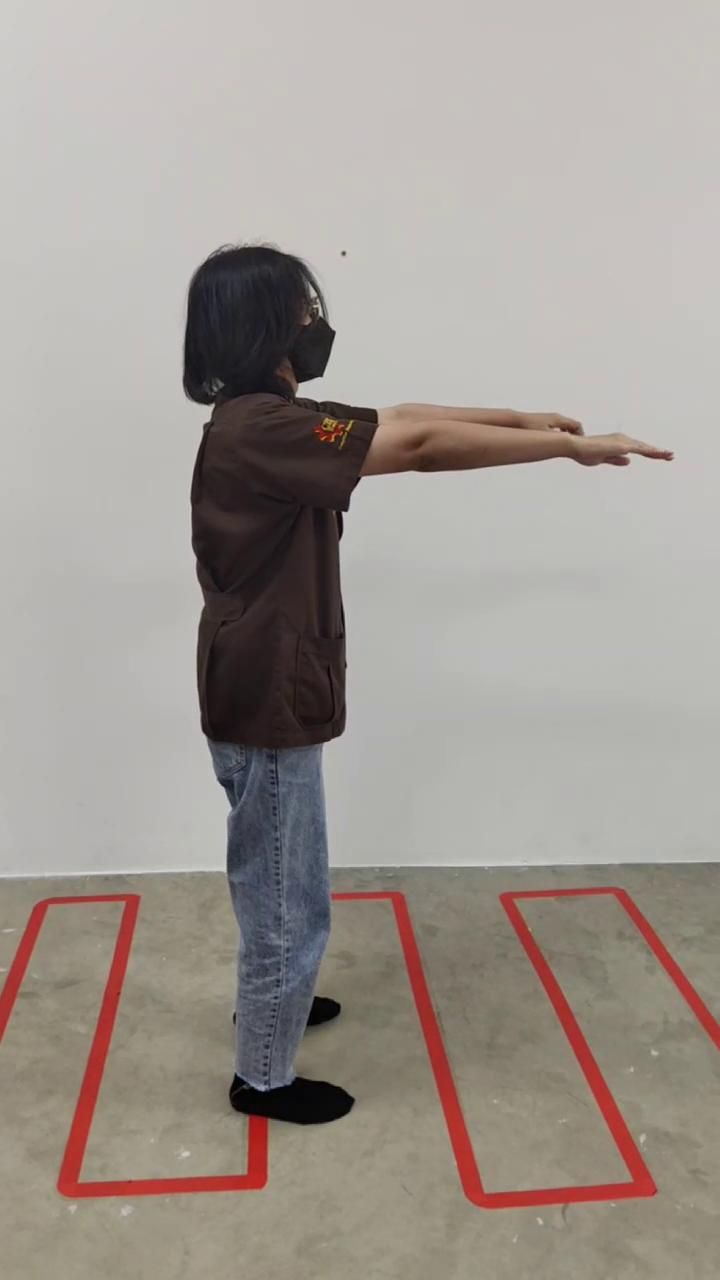squat up: (182, 245, 672, 1128)
